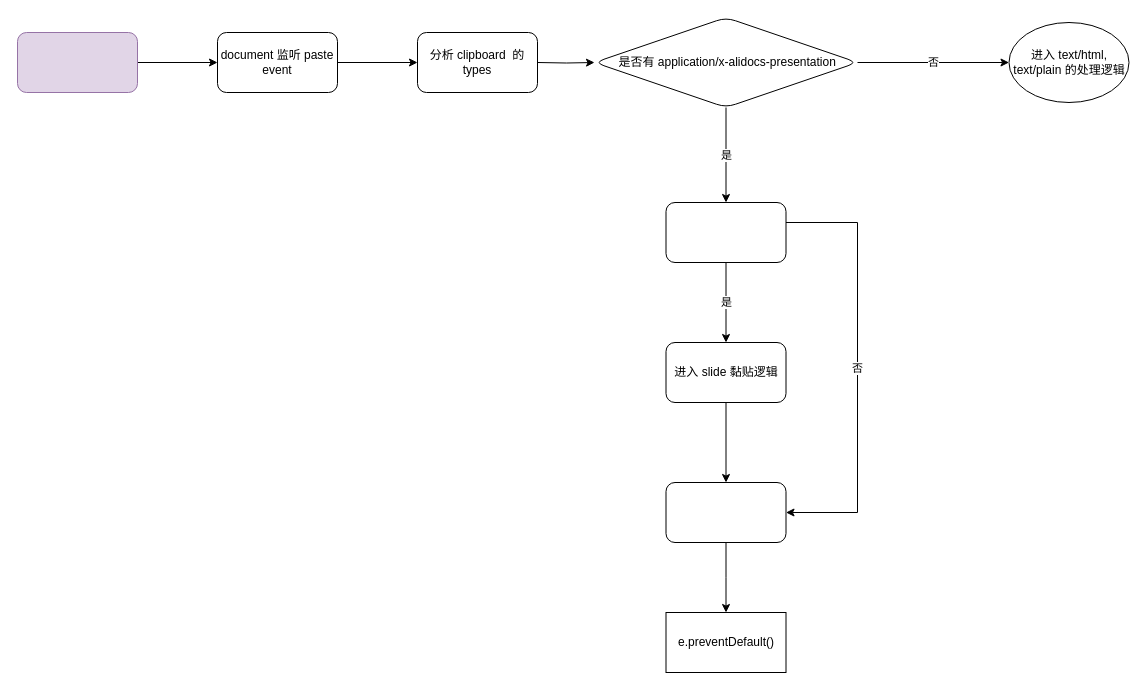
The diagram is 1147 pixels wide and 690 high, and some of its shapes have lost their labels. Each missing label, with the centre of its shape:
"type 是 slide" belongs at (725,232).
"进入插件黏贴逻辑" belongs at (725,512).
"黏贴" belongs at (77,62).
